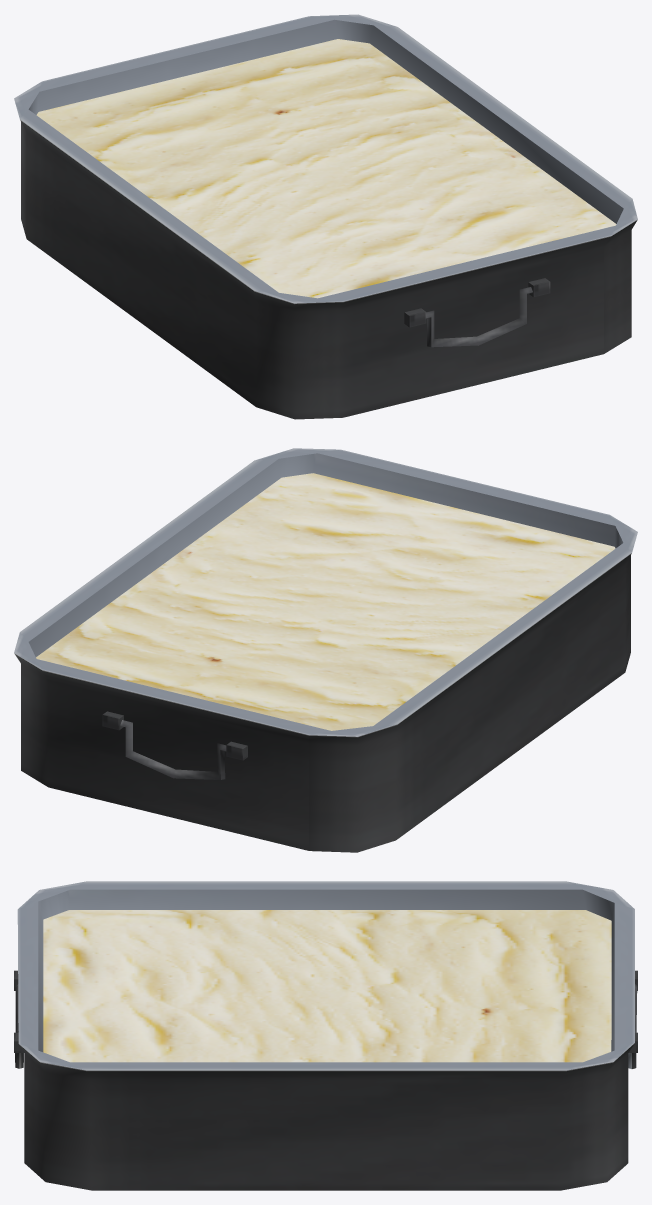
The model's file is VFX_RoastingPanFull.fbx.
The picture shows the model from 3 angles, top to bottom: view 1: azimuth 30°, elevation 25°; view 2: azimuth 150°, elevation 25°; view 3: azimuth 270°, elevation 25°; orthographic projection. The views are drawn at different scales.
Parts seen in each view (by area): view 1: RoastingPanFull; view 2: RoastingPanFull; view 3: RoastingPanFull.
Part boxes in pixels (x1,y1,x2,y2): RoastingPanFull: (14, 14, 637, 419); RoastingPanFull: (14, 448, 637, 852); RoastingPanFull: (14, 881, 637, 1190).
Size of the model in its own units: 0.1413 by 0.0425 by 0.1971.
